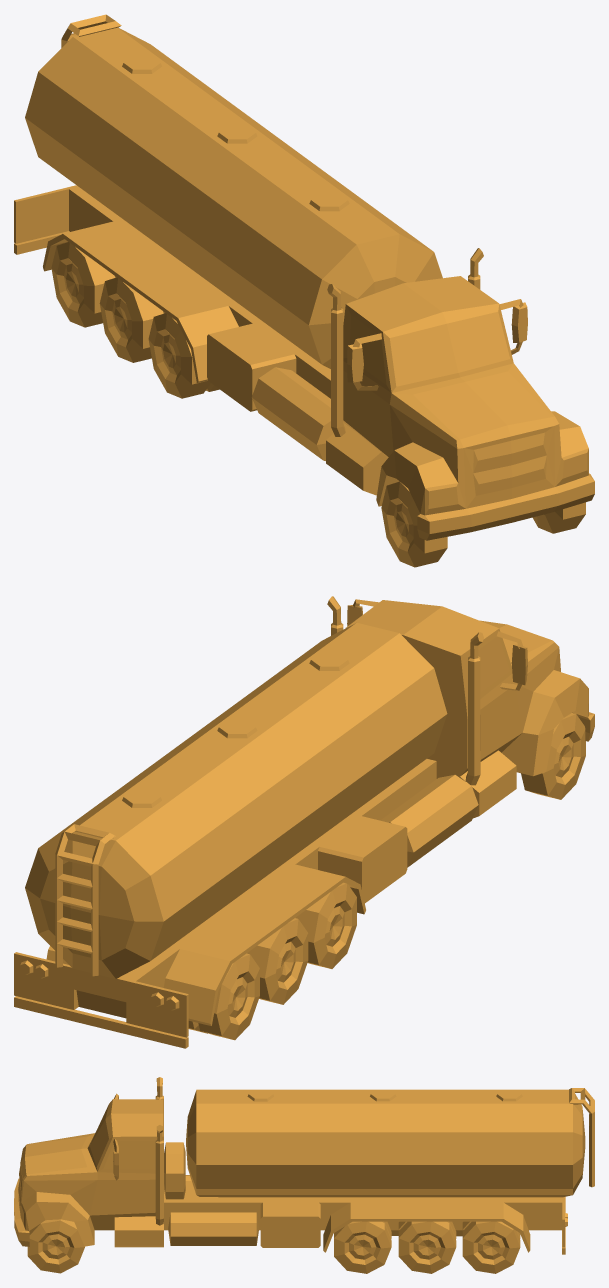
The model's file is car-truck-tanker.glb.
3 views of the same model, one above another, from view 1: azimuth 30°, elevation 25°; view 2: azimuth 150°, elevation 25°; view 3: azimuth 270°, elevation 25° (orthographic). The views are drawn at different scales.
Visible parts, largest first — view 1: car-truck-tanker-base, car-truck-tanker-wheel_BR2, car-truck-tanker-wheel_BR3, car-truck-tanker-wheel_BR1, car-truck-tanker-wheel_FR, car-truck-tanker-wheel_FL; view 2: car-truck-tanker-base, car-truck-tanker-wheel_BR1, car-truck-tanker-wheel_BR2, car-truck-tanker-wheel_BR3, car-truck-tanker-wheel_FR; view 3: car-truck-tanker-base, car-truck-tanker-wheel_BL2, car-truck-tanker-wheel_BL3, car-truck-tanker-wheel_BL1, car-truck-tanker-wheel_FL.
Part boxes in pixels (left/top/right/bottom): car-truck-tanker-base: left=14, top=14, right=594, bottom=540; car-truck-tanker-wheel_BR2: left=99, top=277, right=164, bottom=362; car-truck-tanker-wheel_BR3: left=51, top=242, right=116, bottom=327; car-truck-tanker-wheel_BR1: left=148, top=313, right=219, bottom=398; car-truck-tanker-wheel_FR: left=381, top=481, right=447, bottom=567; car-truck-tanker-wheel_FL: left=532, top=502, right=585, bottom=533; car-truck-tanker-base: left=14, top=596, right=594, bottom=1048; car-truck-tanker-wheel_BR1: left=295, top=882, right=356, bottom=968; car-truck-tanker-wheel_BR2: left=247, top=918, right=308, bottom=1004; car-truck-tanker-wheel_BR3: left=188, top=953, right=259, bottom=1040; car-truck-tanker-wheel_FR: left=521, top=713, right=585, bottom=799; car-truck-tanker-base: left=14, top=1077, right=594, bottom=1254; car-truck-tanker-wheel_BL2: left=398, top=1221, right=456, bottom=1273; car-truck-tanker-wheel_BL3: left=462, top=1221, right=520, bottom=1273; car-truck-tanker-wheel_BL1: left=334, top=1221, right=391, bottom=1273; car-truck-tanker-wheel_FL: left=27, top=1219, right=84, bottom=1273.
Bounding box in the file's own units: 2.57 × 3.2 × 10.9.
